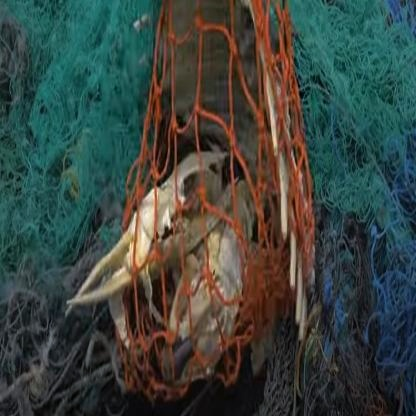net: (57, 39, 350, 336), (317, 23, 416, 241)
